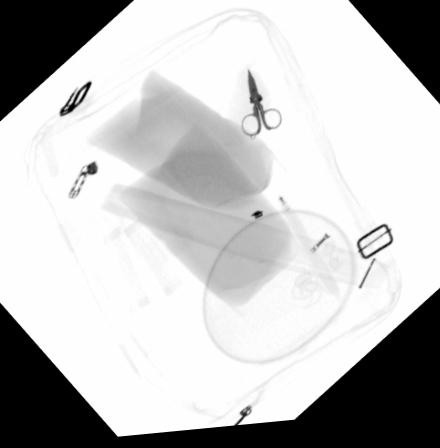Scissors: (239, 70, 281, 142)
